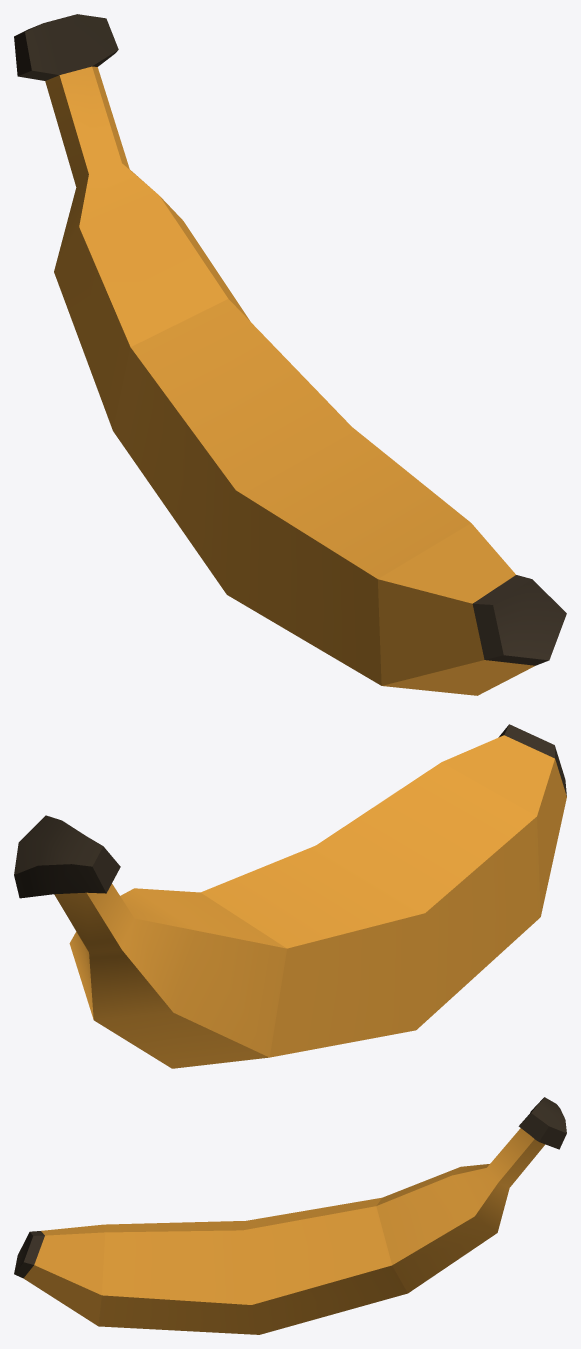
The model's file is SM_Prop_Food_Banana_01.fbx.
3 renders of one model, top to bottom at view 1: azimuth 30°, elevation 25°; view 2: azimuth 150°, elevation 25°; view 3: azimuth 270°, elevation 25°, orthographic. The views are drawn at different scales.
Parts seen in each view (by area): view 1: SM_Prop_Food_Banana_01; view 2: SM_Prop_Food_Banana_01; view 3: SM_Prop_Food_Banana_01.
Part boxes in pixels (x1=…): SM_Prop_Food_Banana_01: x1=14, y1=14, x2=566, y2=695; SM_Prop_Food_Banana_01: x1=14, y1=724, x2=566, y2=1068; SM_Prop_Food_Banana_01: x1=14, y1=1097, x2=566, y2=1334.
Size of the model in its own units: 7.74 by 16.51 by 36.24.
